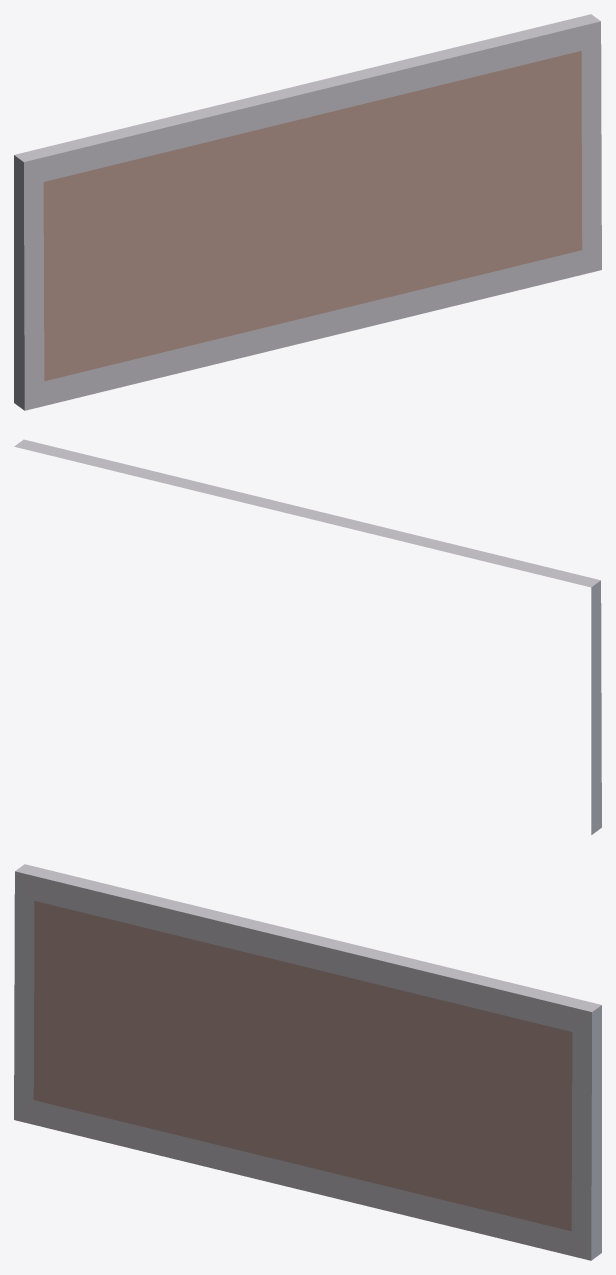
File: tool_wall.glb
3 views of the same model, one above another, from view 1: azimuth 30°, elevation 25°; view 2: azimuth 150°, elevation 25°; view 3: azimuth 330°, elevation 25° (orthographic).
Parts seen in each view (by area): view 1: tool_wall; view 2: tool_wall; view 3: tool_wall.
Boxes of the visible parts, x1,y1,x2,y2 form: tool_wall: (14, 14, 601, 410); tool_wall: (14, 439, 601, 834); tool_wall: (14, 864, 601, 1260).
Size of the model in its own units: 2.73 by 1.12 by 0.0883.
